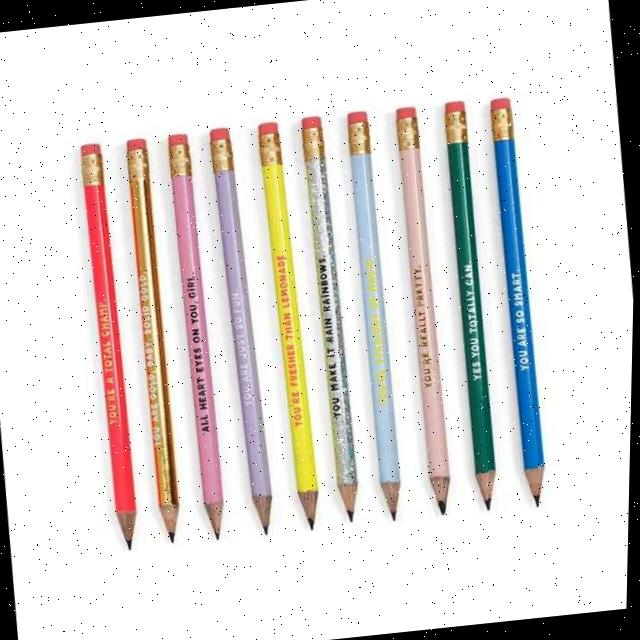pencil: (461, 70, 573, 522), (364, 94, 476, 534), (416, 76, 525, 518), (192, 115, 302, 550), (242, 99, 348, 550), (59, 129, 163, 565), (325, 104, 428, 535), (290, 86, 379, 534), (159, 117, 246, 551), (118, 129, 203, 552)
